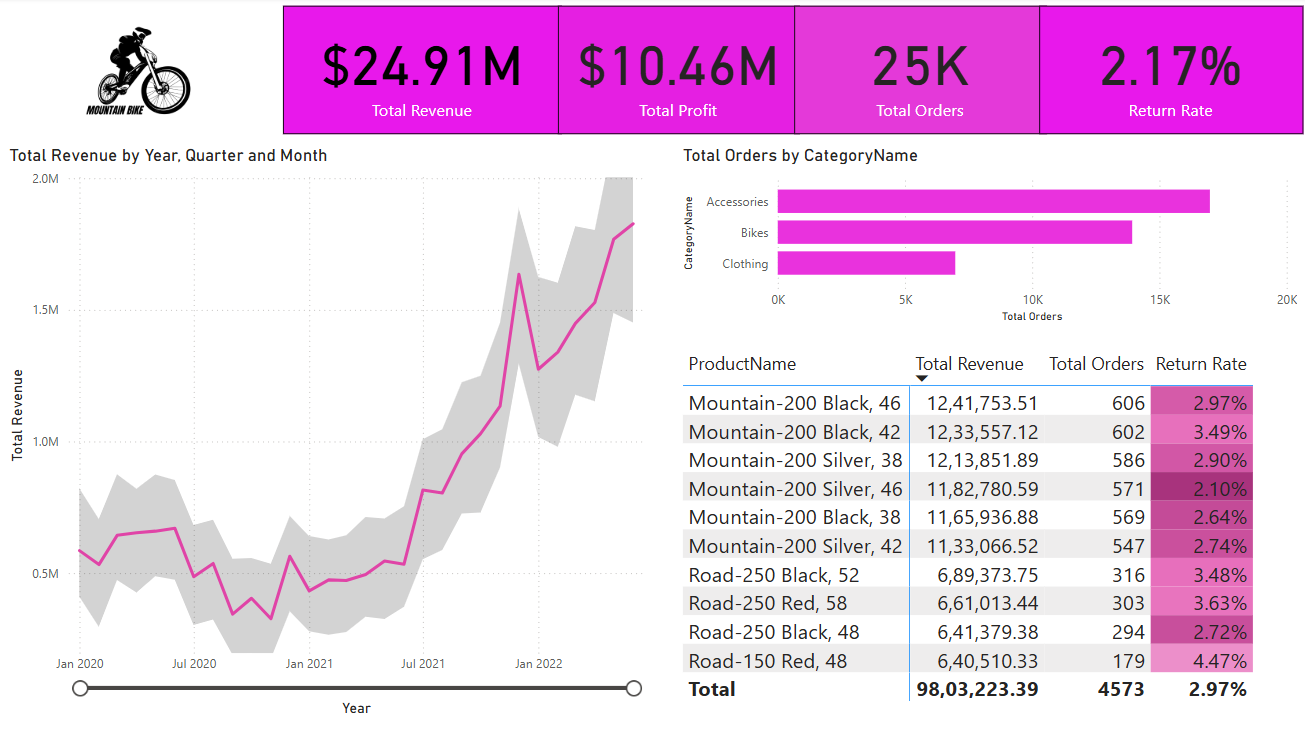

Layout of this report page (visuals, bound fields, positions):
{"tool":"powerbi","page":{"name":"Page 2","canvas":[1280,720],"ordinal":1},"visuals":[{"type":"card","fields":{"Values":["MEASURE TABLE.Total Revenue"]},"box":[279,8,272.7,126],"z":0,"group":"g1"},{"type":"group","id":"g1","title":"Group 1","box":[279,8,997.8,126.1],"z":0},{"type":"card","fields":{"Values":["MEASURE TABLE.Total Profit"]},"box":[548,8.1,236,126],"z":1000,"group":"g1"},{"type":"image","box":[6.1,9.8,262.9,124.7],"z":1000},{"type":"card","fields":{"Values":["MEASURE TABLE.Total Orders"]},"box":[779.1,8,247,126],"z":2000,"group":"g1"},{"type":"lineChart","fields":{"Category":["Calendar Lookup.Start of Month.Variation.Date Hierarchy.Year","Calendar Lookup.Start of Month.Variation.Date Hierarchy.Quarter","Calendar Lookup.Start of Month.Variation.Date Hierarchy.Month","Calendar Lookup.Start of Month.Variation.Date Hierarchy.Day"],"Y":["MEASURE TABLE.Total Revenue"]},"box":[6.1,144.3,644.4,563.7],"z":2000},{"type":"card","fields":{"Values":["MEASURE TABLE.Return Rate"]},"box":[1018.8,8,258,126],"z":3000,"group":"g1"},{"type":"pivotTable","fields":{"Rows":["Product Lookup.ProductName"],"Values":["MEASURE TABLE.Total Revenue","MEASURE TABLE.Total Orders","MEASURE TABLE.Return Rate"]},"box":[665.5,340.3,587.3,367.8],"z":3000},{"type":"clusteredBarChart","fields":{"Category":["Product Categories Lookup.CategoryName"],"Y":["MEASURE TABLE.Total Orders"]},"box":[665.5,144.1,610.6,179.8],"z":4000}]}

Visuals, with their boxes in screenshot pixels (x1, y1, x2, y2), scaled from the page's 1280x720 canvas onto the 1305x732 screenshot:
card - MEASURE TABLE.Total Revenue: 284:8:562:136
"Group 1" group: 284:8:1302:136
card - MEASURE TABLE.Total Profit: 559:8:799:136
image: 6:10:274:137
card - MEASURE TABLE.Total Orders: 794:8:1046:136
lineChart - Calendar Lookup.Start of Month.Variation.Date Hierarchy.Year x Calendar Lookup.Start of Month.Variation.Date Hierarchy.Quarter: 6:147:663:720
card - MEASURE TABLE.Return Rate: 1039:8:1302:136
pivotTable - Product Lookup.ProductName x MEASURE TABLE.Total Revenue: 678:346:1277:720
clusteredBarChart - Product Categories Lookup.CategoryName x MEASURE TABLE.Total Orders: 678:147:1301:329
